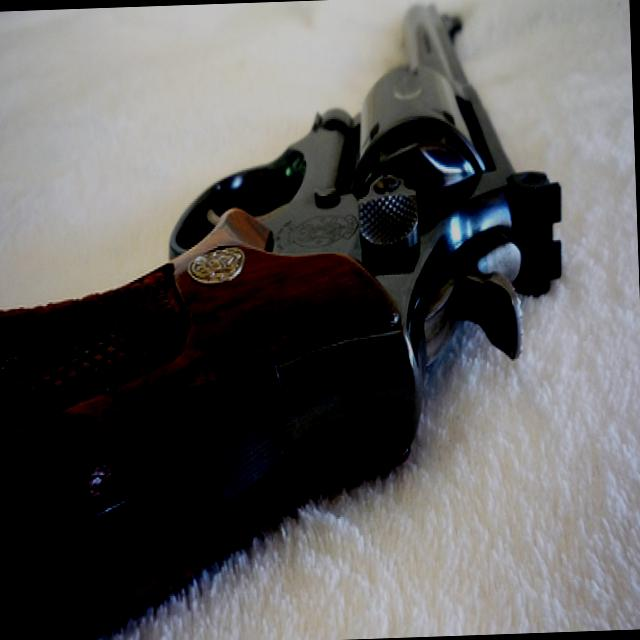handgun: (0, 11, 573, 639)
